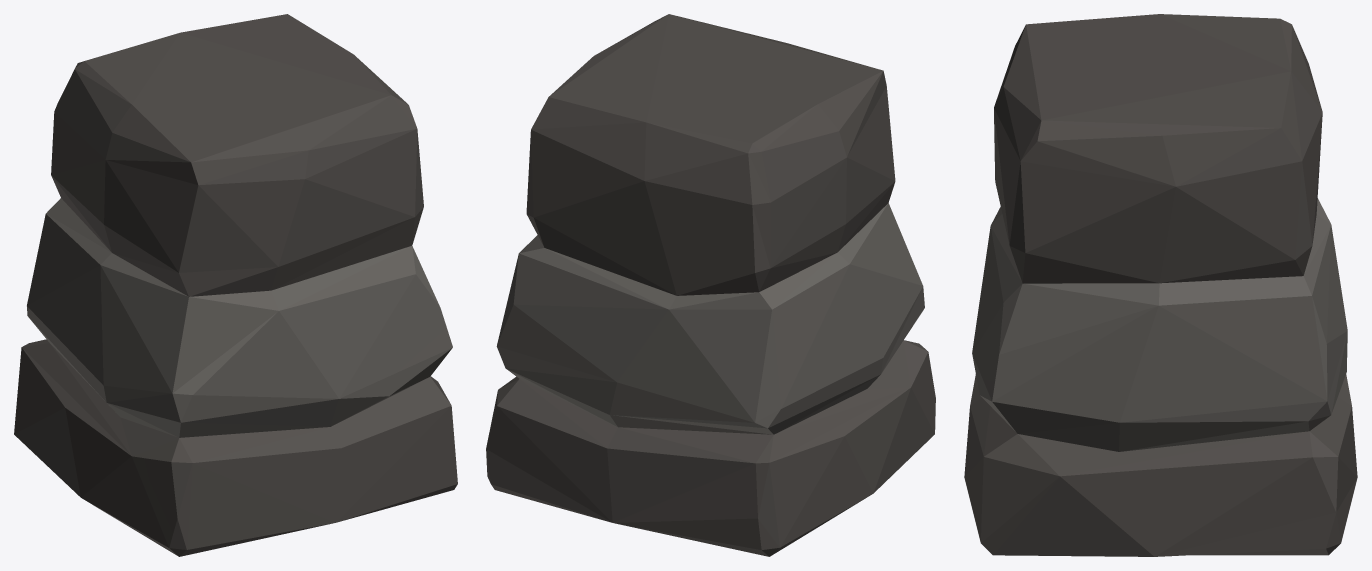
Rendered from env_stonewall_pillar.gltf.
3 views of the same model, side by side, from view 1: azimuth 30°, elevation 25°; view 2: azimuth 150°, elevation 25°; view 3: azimuth 270°, elevation 25° (orthographic). The views are drawn at different scales.
Parts seen in each view (by area): view 1: env_stonewall_pillar; view 2: env_stonewall_pillar; view 3: env_stonewall_pillar.
Part boxes in pixels (x1,y1,x2,y2): env_stonewall_pillar: (14,14,457,556); env_stonewall_pillar: (486,14,935,556); env_stonewall_pillar: (964,14,1357,556).
Bounding box in the file's own units: 1.01 × 1.17 × 1.
1 material, 1 textured.
